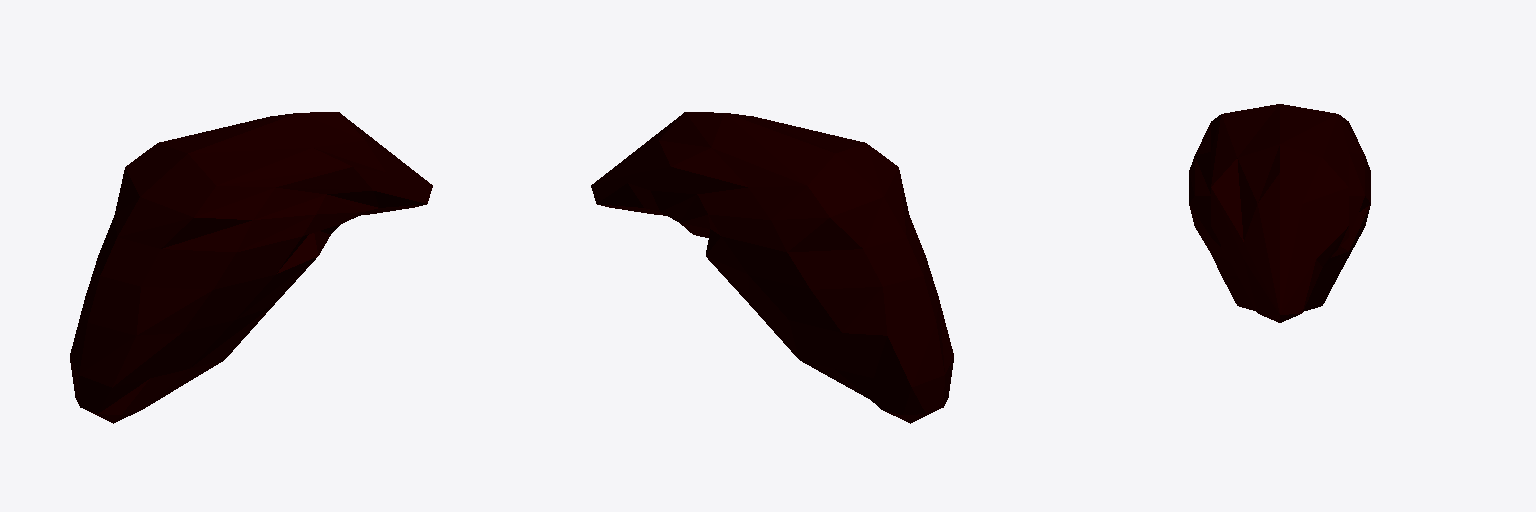
The model's file is Liver.obj.
The picture shows the model from 3 angles: view 1: azimuth 30°, elevation 25°; view 2: azimuth 150°, elevation 25°; view 3: azimuth 270°, elevation 25°; orthographic projection.
Visible parts, largest first — view 1: pSphere1; view 2: pSphere1; view 3: pSphere1.
Part boxes in pixels (x1,y1,x2,y2): pSphere1: (70, 112, 432, 423); pSphere1: (591, 112, 953, 423); pSphere1: (1189, 104, 1370, 322).
Bounding box in the file's own units: 107 × 76.59 × 47.62.